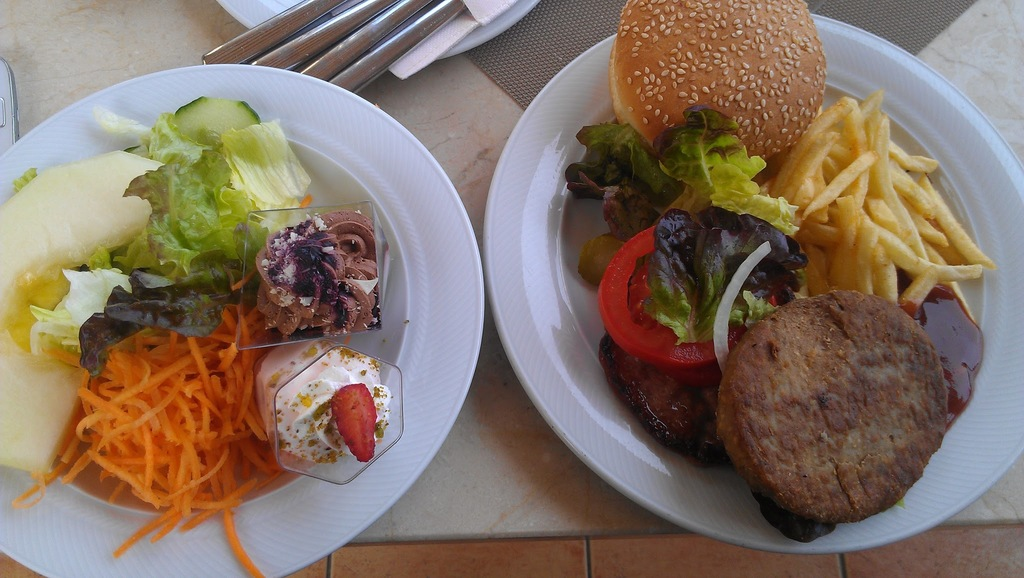French fries: (750, 87, 1000, 308)
